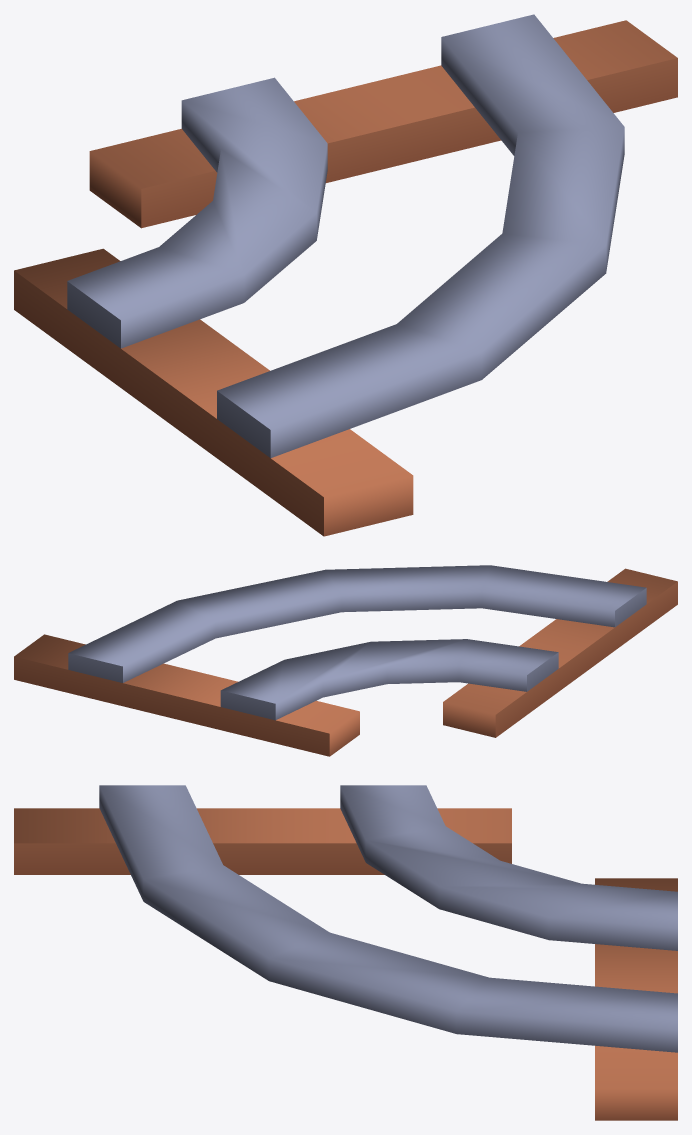
Rendered from trainset-rail-detailed-corner.glb.
The picture shows the model from 3 angles, top to bottom: view 1: azimuth 30°, elevation 25°; view 2: azimuth 150°, elevation 25°; view 3: azimuth 270°, elevation 25°; orthographic projection. The views are drawn at different scales.
Visible parts, largest first — view 1: trainset-rail-detailed-corner; view 2: trainset-rail-detailed-corner; view 3: trainset-rail-detailed-corner.
Part boxes in pixels (x1,y1,x2,y2): trainset-rail-detailed-corner: [14, 14, 677, 536]; trainset-rail-detailed-corner: [14, 565, 677, 756]; trainset-rail-detailed-corner: [14, 785, 677, 1120].
Bounding box in the file's own units: 0.4 × 0.0362 × 0.4.
